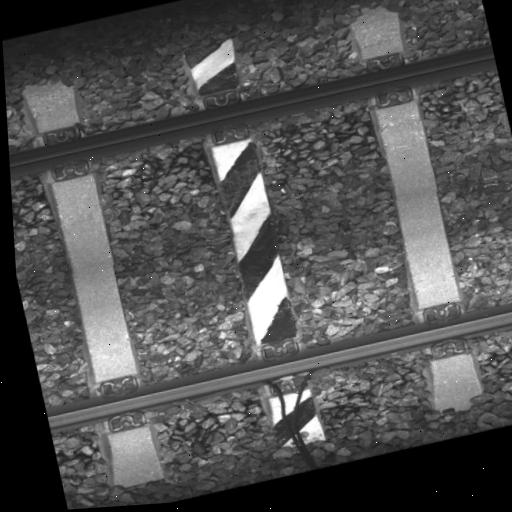sleeper: (15, 65, 172, 496), (179, 29, 334, 456), (340, 0, 491, 420)
